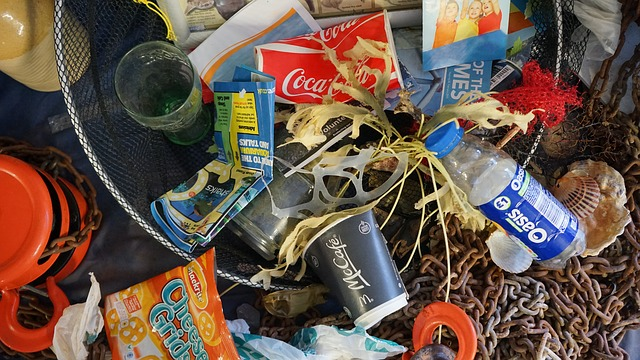can: (252, 6, 408, 104), (298, 205, 410, 334)
plastic_bottle: (419, 120, 593, 272)
